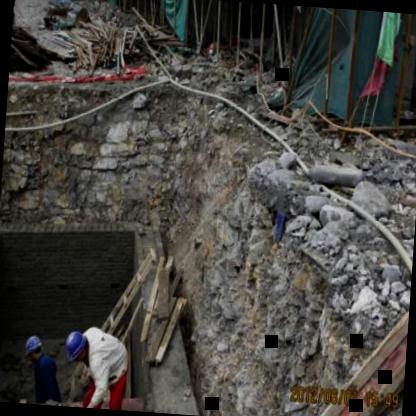helmet: (61, 328, 89, 368), (22, 330, 46, 362)
